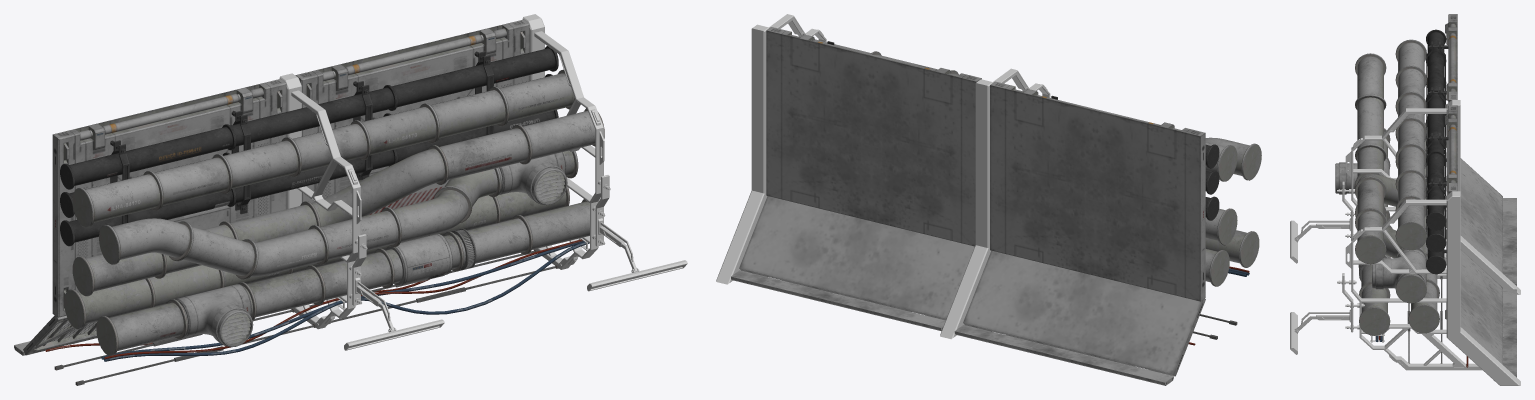
File: Sci-Fi_09_Free.obj
The picture shows the model from 3 angles, left to right: view 1: azimuth 30°, elevation 25°; view 2: azimuth 150°, elevation 25°; view 3: azimuth 270°, elevation 25°; orthographic projection. The views are drawn at different scales.
Visible parts, largest first — view 1: SF_AP04_F_001_001, SF_AP04_F_003_001, SF_AP04_F_003_005, SF_AP04_F_003_007, SF_AP04_F_002_002, SF_AP04_F_002_007, SF_AP04_F_001_008, SF_AP04_F_001_006, SF_AP04_F_001_005, SF_AP04_F_001_004, SF_AP04_F_003_006, SF_AP04_F_001_007 (+1 smaller); view 2: SF_AP04_F_003_005, SF_AP04_F_003_007, SF_AP04_F_003_006, SF_AP04_F_003_003, SF_AP04_F_002_007, SF_AP04_F_001_001, SF_AP04_F_002_002, SF_AP04_F_003_004, SF_AP04_F_003_002, SF_AP04_F_003_001; view 3: SF_AP04_F_001_001, SF_AP04_F_002_007, SF_AP04_F_003_001, SF_AP04_F_002_002, SF_AP04_F_003_003, SF_AP04_F_003_006, SF_AP04_F_001_005, SF_AP04_F_003_002, SF_AP04_F_003_004, SF_AP04_F_003_007, SF_AP04_F_003_005, SF_AP04_F_001_006 (+1 smaller).
Boxes of the visible parts, x1,y1,x2,y2 form: SF_AP04_F_001_001: (64, 69, 604, 355); SF_AP04_F_003_001: (60, 46, 558, 246); SF_AP04_F_003_005: (52, 79, 286, 317); SF_AP04_F_003_007: (295, 19, 529, 214); SF_AP04_F_002_002: (279, 73, 444, 350); SF_AP04_F_002_007: (522, 14, 687, 291); SF_AP04_F_001_008: (101, 239, 588, 361); SF_AP04_F_001_006: (175, 284, 253, 347); SF_AP04_F_001_005: (499, 152, 567, 205); SF_AP04_F_001_004: (386, 234, 452, 285); SF_AP04_F_003_006: (23, 315, 97, 355); SF_AP04_F_001_007: (54, 308, 316, 385); SF_AP04_F_003_005: (990, 81, 1205, 301); SF_AP04_F_003_007: (766, 27, 981, 246); SF_AP04_F_003_006: (963, 250, 1205, 376); SF_AP04_F_003_003: (739, 196, 974, 320); SF_AP04_F_002_007: (716, 14, 826, 284); SF_AP04_F_001_001: (814, 39, 1261, 286); SF_AP04_F_002_002: (940, 68, 1050, 339); SF_AP04_F_003_004: (954, 325, 1173, 385); SF_AP04_F_003_002: (731, 270, 945, 331); SF_AP04_F_003_001: (827, 41, 1219, 220); SF_AP04_F_001_001: (1355, 39, 1439, 335); SF_AP04_F_002_007: (1290, 191, 1520, 385); SF_AP04_F_003_001: (1426, 29, 1448, 274); SF_AP04_F_002_002: (1290, 100, 1520, 294); SF_AP04_F_003_003: (1460, 249, 1502, 364); SF_AP04_F_003_006: (1460, 158, 1502, 273); SF_AP04_F_001_005: (1372, 249, 1426, 289); SF_AP04_F_003_002: (1503, 289, 1516, 377); SF_AP04_F_003_004: (1503, 198, 1516, 285); SF_AP04_F_003_007: (1445, 105, 1457, 319); SF_AP04_F_003_005: (1445, 14, 1457, 227); SF_AP04_F_001_006: (1335, 158, 1389, 194).
Bounding box in the file's own units: 990 × 438 × 481.
